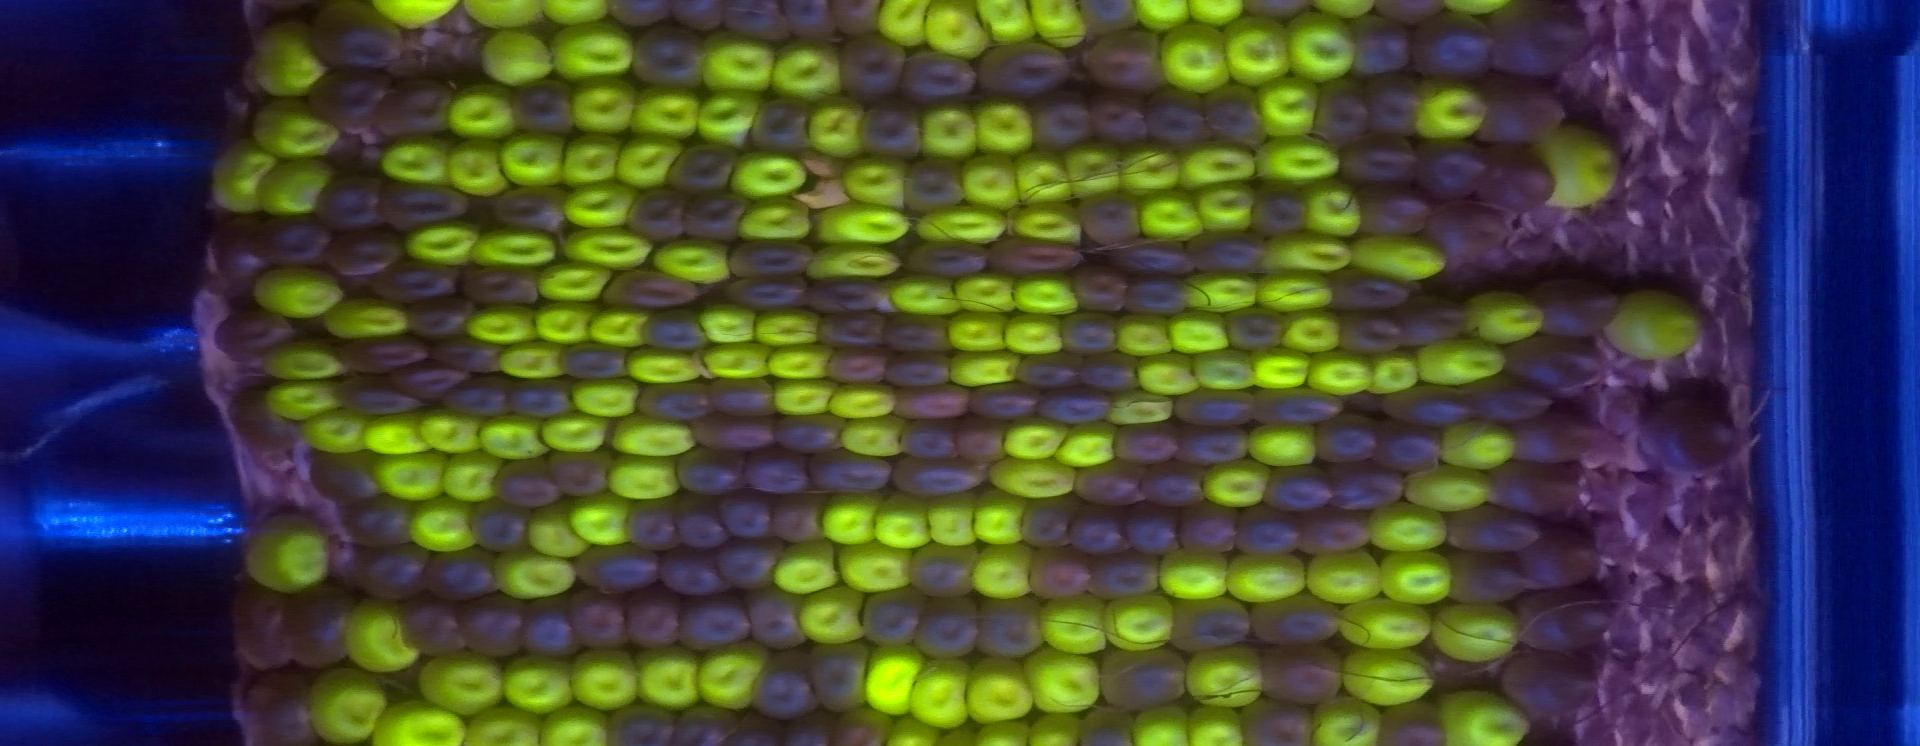fluorescent: (1604, 281, 1700, 360), (1533, 126, 1618, 209), (247, 517, 332, 592), (415, 652, 504, 715), (252, 23, 327, 96), (343, 599, 418, 671), (307, 671, 384, 739), (250, 104, 343, 159), (1286, 12, 1354, 85), (1223, 15, 1291, 86), (1160, 21, 1224, 94), (1036, 592, 1109, 657), (1411, 78, 1485, 142), (550, 21, 636, 76), (1343, 650, 1435, 702), (249, 269, 345, 317), (1025, 650, 1098, 712), (211, 140, 271, 214), (564, 650, 634, 714), (1367, 499, 1449, 552), (1436, 601, 1515, 658), (256, 157, 331, 216), (1463, 289, 1544, 343), (1400, 467, 1495, 512), (697, 37, 775, 92), (1347, 236, 1445, 281), (1337, 601, 1430, 647), (700, 646, 765, 709), (1442, 693, 1524, 744), (1436, 416, 1511, 472), (1187, 650, 1261, 706), (909, 660, 969, 729), (966, 543, 1040, 598), (1411, 341, 1505, 383), (729, 149, 809, 198), (491, 550, 572, 599), (478, 29, 549, 85), (1307, 551, 1378, 606), (633, 80, 697, 141), (1256, 75, 1318, 138), (560, 130, 623, 191), (816, 205, 909, 246), (991, 454, 1078, 499), (497, 132, 564, 189), (770, 40, 839, 96), (1262, 232, 1349, 274), (446, 88, 516, 141), (926, 1, 987, 61), (1379, 554, 1453, 603), (380, 138, 456, 186), (373, 703, 460, 745), (617, 136, 686, 189), (571, 75, 632, 134), (605, 451, 678, 500), (809, 243, 902, 281), (1255, 138, 1340, 180), (817, 489, 880, 544), (656, 236, 733, 282), (797, 590, 863, 643), (862, 652, 920, 712), (970, 102, 1035, 154), (504, 660, 569, 713), (473, 227, 555, 268), (1251, 271, 1333, 312), (1304, 179, 1362, 238), (640, 652, 699, 709), (444, 138, 504, 195), (871, 492, 931, 549), (969, 665, 1029, 722), (1248, 419, 1320, 465), (1155, 552, 1227, 599), (322, 300, 404, 341), (260, 342, 344, 381), (809, 99, 869, 154), (440, 448, 500, 503), (610, 416, 697, 454), (956, 153, 1018, 207), (771, 543, 839, 592), (1103, 599, 1171, 648), (1183, 269, 1258, 314), (524, 505, 588, 556), (375, 452, 444, 499), (538, 258, 611, 303), (411, 506, 480, 552), (405, 223, 478, 267), (1202, 462, 1269, 510), (571, 496, 633, 546), (1226, 561, 1305, 600), (563, 230, 654, 265), (1064, 143, 1123, 196), (1195, 183, 1256, 233), (1002, 413, 1067, 459), (842, 160, 909, 206), (1016, 200, 1082, 245), (1314, 697, 1380, 742), (1056, 421, 1118, 469), (769, 372, 836, 416), (694, 92, 758, 138), (841, 541, 905, 588), (920, 105, 977, 157), (1013, 154, 1070, 206), (1138, 194, 1206, 236), (733, 201, 811, 239), (496, 339, 568, 380), (1118, 147, 1180, 194), (842, 412, 905, 458), (917, 208, 1007, 240), (891, 273, 958, 316), (1307, 352, 1373, 394), (460, 305, 540, 341), (948, 273, 1018, 314), (704, 342, 771, 383), (1114, 311, 1174, 358), (481, 416, 546, 459), (567, 183, 629, 227), (627, 347, 697, 386), (1187, 148, 1254, 189), (1278, 310, 1340, 354), (267, 381, 340, 418), (527, 303, 595, 342), (1135, 352, 1198, 394), (1129, 702, 1191, 745), (947, 349, 1019, 386), (534, 412, 604, 450), (976, 1, 1036, 45), (1003, 312, 1063, 356), (469, 708, 542, 744), (751, 305, 819, 343), (420, 409, 482, 451), (369, 1, 460, 29), (305, 409, 369, 450), (1029, 1, 1085, 47), (697, 303, 759, 343), (876, 1, 934, 44), (1166, 311, 1229, 350), (367, 415, 429, 456), (1198, 345, 1255, 388), (1013, 273, 1078, 311), (975, 491, 1024, 541), (948, 310, 1008, 350), (768, 343, 835, 379), (573, 380, 638, 416), (924, 499, 975, 545), (1187, 702, 1244, 741), (1251, 350, 1308, 390), (1367, 352, 1417, 394), (587, 311, 649, 345), (827, 387, 895, 416), (459, 1, 542, 24), (1107, 394, 1172, 423), (544, 715, 609, 742), (1032, 710, 1081, 744), (1134, 1, 1188, 28), (887, 714, 936, 744), (973, 717, 1022, 744), (549, 1, 609, 22), (1193, 1, 1242, 23), (1311, 2, 1373, 20), (1445, 2, 1504, 16)
nonfluorescent: (1642, 390, 1746, 479), (1493, 2, 1589, 77), (310, 1, 403, 73), (1505, 650, 1598, 717), (1531, 274, 1621, 342), (1518, 590, 1618, 652), (1254, 642, 1347, 702), (242, 664, 312, 742), (1505, 337, 1608, 390), (311, 62, 386, 135), (1490, 462, 1587, 517), (287, 582, 349, 666), (231, 578, 290, 668), (1089, 29, 1162, 100), (1100, 647, 1188, 704), (1417, 18, 1495, 82), (1480, 147, 1555, 212), (378, 76, 454, 140), (980, 42, 1069, 96), (1430, 198, 1507, 260), (344, 541, 424, 600), (1488, 82, 1562, 143), (1250, 590, 1341, 641), (1444, 505, 1538, 552), (1524, 530, 1602, 587), (900, 54, 982, 107), (382, 183, 470, 232), (839, 34, 902, 102), (1509, 415, 1603, 461), (211, 311, 293, 363), (633, 28, 700, 91), (980, 593, 1044, 657), (1466, 375, 1551, 423), (506, 77, 572, 138), (1202, 86, 1270, 146), (1419, 136, 1483, 198), (987, 236, 1082, 278), (862, 102, 928, 162), (1446, 551, 1524, 601), (577, 544, 661, 590), (324, 225, 407, 273), (258, 214, 329, 269), (804, 644, 868, 706), (460, 595, 524, 657), (664, 145, 741, 195), (1171, 597, 1248, 647), (1356, 187, 1430, 239), (306, 453, 384, 502), (1349, 16, 1413, 76), (1238, 699, 1320, 746), (230, 393, 295, 452), (743, 590, 808, 649), (912, 540, 978, 598), (208, 209, 260, 283), (1337, 141, 1423, 185), (1258, 383, 1343, 428), (1172, 383, 1260, 426), (601, 269, 700, 307), (1079, 187, 1141, 247), (916, 598, 978, 658), (369, 260, 460, 300), (1032, 91, 1095, 149), (567, 590, 629, 649), (398, 595, 460, 654), (677, 445, 744, 499), (425, 548, 497, 598), (725, 241, 817, 281), (1380, 383, 1472, 423), (1189, 232, 1266, 278), (1336, 309, 1411, 356), (901, 158, 962, 216), (1090, 549, 1160, 599), (320, 176, 384, 230), (1026, 545, 1091, 599), (343, 495, 414, 544), (1073, 461, 1147, 507), (1375, 423, 1442, 474), (806, 453, 891, 494), (627, 592, 686, 650), (1093, 88, 1151, 148), (493, 183, 566, 230), (1315, 78, 1371, 140), (1150, 86, 1205, 148), (1294, 514, 1371, 559), (759, 649, 811, 715), (333, 334, 429, 370), (680, 598, 751, 646), (634, 381, 715, 423), (807, 274, 893, 314), (1265, 463, 1333, 512), (553, 341, 633, 382), (1180, 499, 1238, 556), (518, 599, 576, 657), (862, 587, 917, 647), (1119, 502, 1180, 556), (626, 191, 689, 243), (460, 263, 539, 305), (896, 459, 988, 495), (901, 238, 989, 274), (1224, 303, 1291, 352), (751, 97, 811, 151), (684, 416, 779, 451), (1333, 465, 1404, 511), (1329, 267, 1408, 307), (1248, 184, 1307, 238), (622, 499, 681, 552), (1174, 424, 1250, 465), (493, 461, 560, 508), (1375, 702, 1446, 746), (467, 503, 531, 551), (738, 454, 812, 496), (504, 379, 576, 421), (719, 541, 782, 589), (1371, 78, 1423, 137), (724, 276, 812, 310), (1111, 419, 1176, 465), (640, 310, 713, 352), (389, 359, 462, 401), (722, 1, 789, 47), (1057, 310, 1123, 355), (1116, 243, 1193, 281), (602, 706, 675, 746), (1404, 303, 1471, 347), (1236, 502, 1293, 552), (879, 314, 955, 352), (820, 310, 891, 350), (773, 415, 847, 453), (342, 377, 418, 414), (771, 494, 827, 544), (1315, 413, 1373, 461), (1041, 390, 1116, 426), (898, 419, 961, 462), (1067, 508, 1127, 554), (687, 191, 740, 243), (890, 345, 951, 390), (408, 296, 470, 339), (1070, 265, 1130, 309), (427, 341, 504, 375), (894, 387, 973, 420), (446, 375, 507, 418), (721, 495, 774, 544), (1018, 352, 1085, 390), (550, 454, 610, 496), (827, 345, 890, 385), (1146, 465, 1210, 505), (661, 551, 725, 590), (673, 702, 730, 746), (677, 499, 724, 551), (1082, 353, 1140, 394), (971, 383, 1038, 419), (711, 375, 774, 413), (1022, 497, 1070, 546), (958, 421, 1010, 462), (1080, 706, 1131, 746), (1127, 282, 1187, 316), (829, 710, 885, 746), (731, 708, 782, 746), (786, 1, 831, 42), (831, 1, 880, 37), (790, 717, 829, 746)
